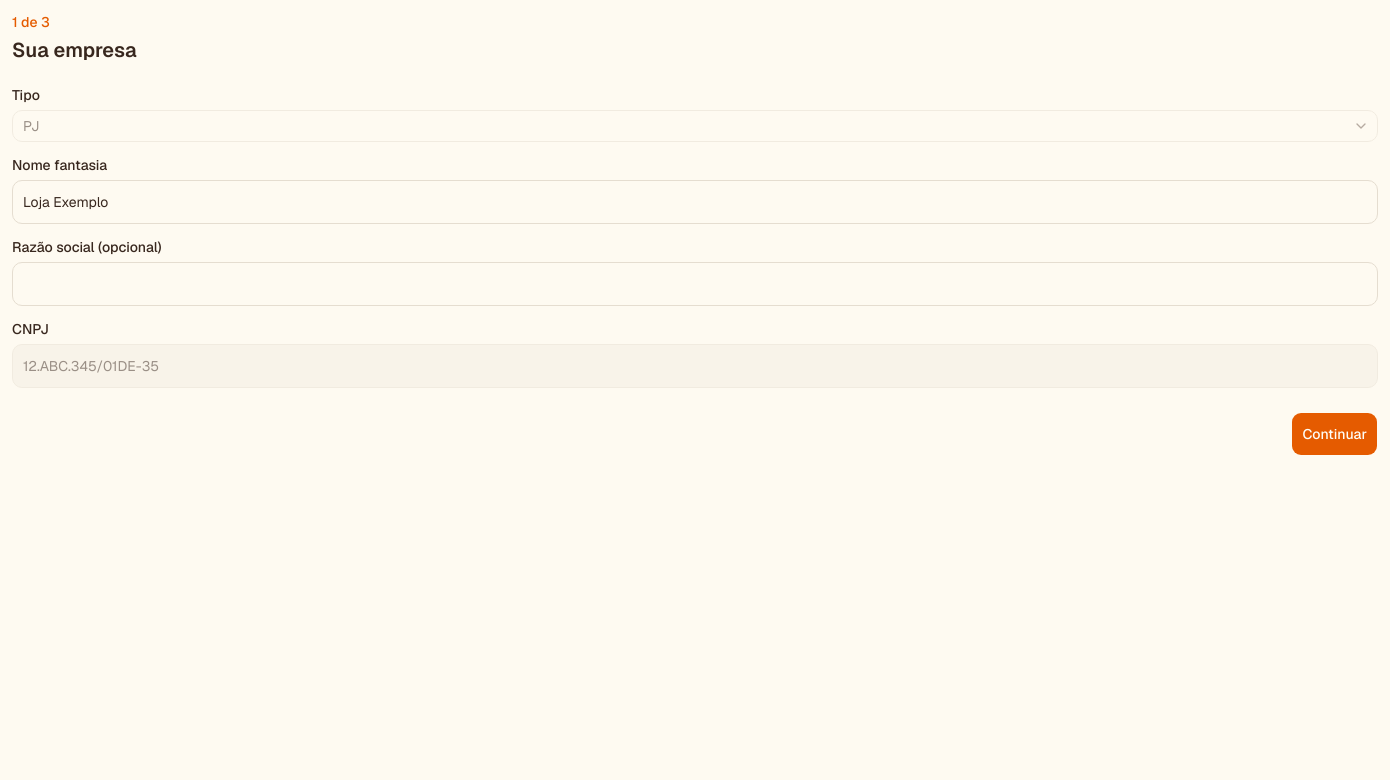
it: CompanyForm › does not show the logo step when editing company data
Expected: the text "1 de 3" is shown, x1=12 y1=13 x2=50 y2=31
Click the button "Continuar" at (1335, 434), box x1=1291 y1=412 x2=1378 y2=456
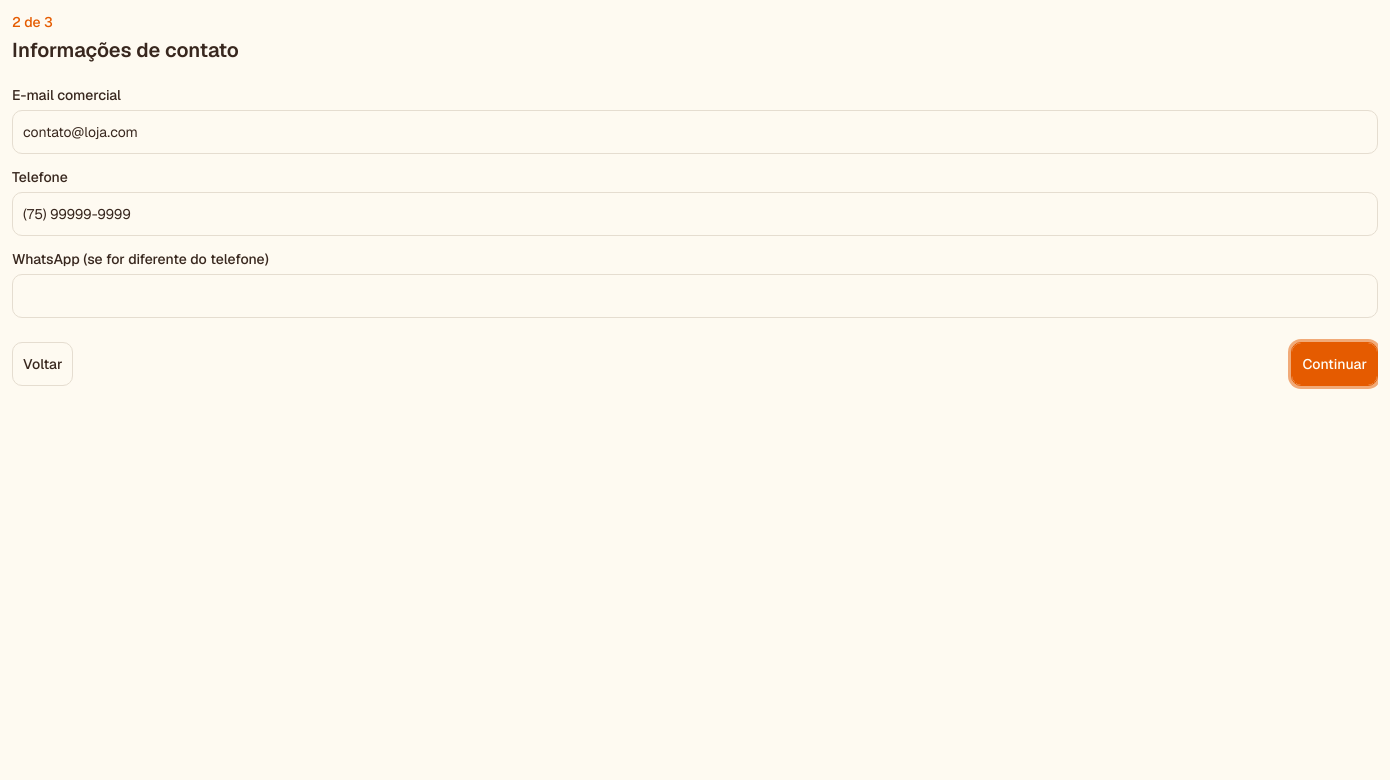
Click the button "Continuar" at (1335, 364), box x1=1291 y1=342 x2=1378 y2=386
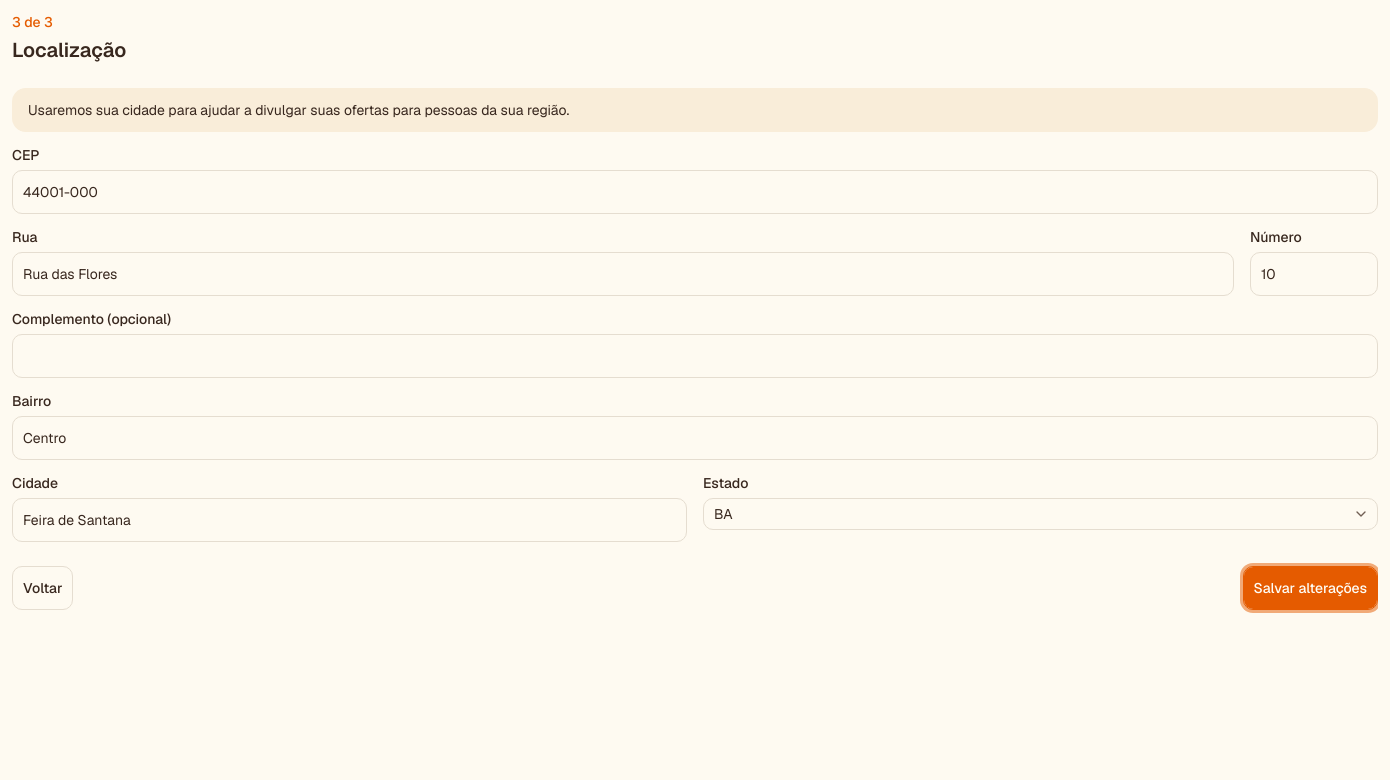
Now the text "3 de 3" is shown, box x1=12 y1=13 x2=53 y2=31
Now the button "Salvar alterações" is shown, box x1=1242 y1=566 x2=1378 y2=610
